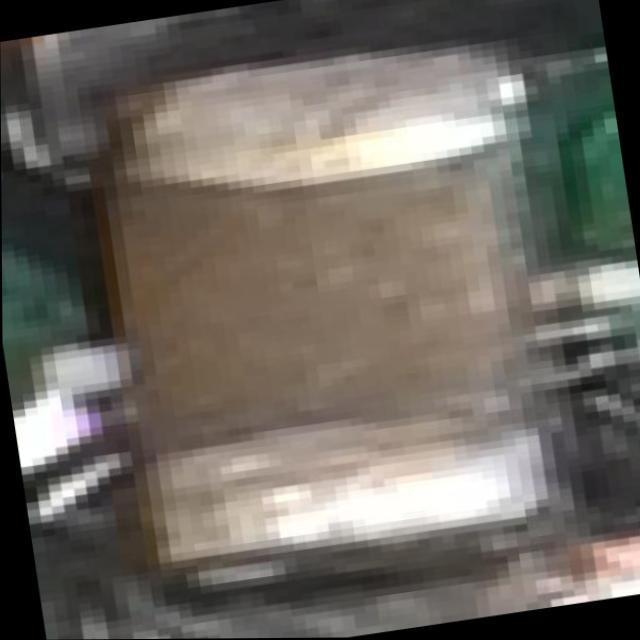Capacitor: (73, 16, 591, 578)
